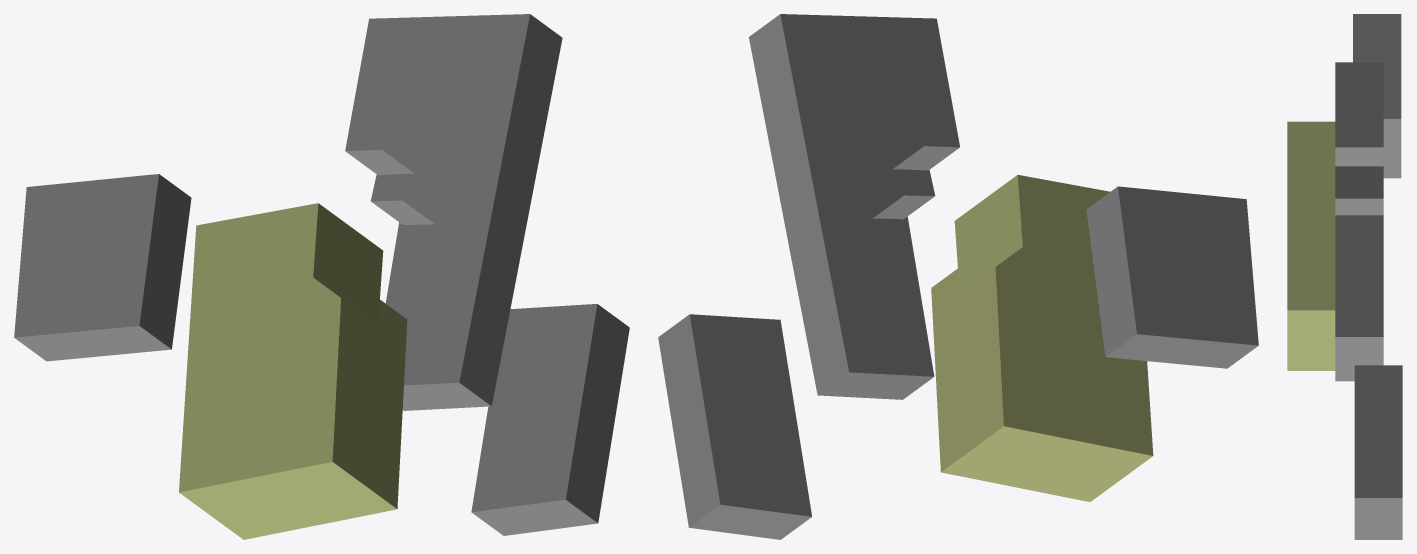
3 renders of one model, left to right at view 1: azimuth 30°, elevation 25°; view 2: azimuth 150°, elevation 25°; view 3: azimuth 270°, elevation 25°, orthographic. The views are drawn at different scales.
Visible parts, largest first — view 1: 0_1_0_0_2_1_0_0_0; view 2: 0_1_0_0_2_1_0_0_0; view 3: 0_1_0_0_2_1_0_0_0.
Boxes of the visible parts, x1,y1,x2,y2 form: 0_1_0_0_2_1_0_0_0: [14, 14, 629, 539]; 0_1_0_0_2_1_0_0_0: [658, 14, 1258, 539]; 0_1_0_0_2_1_0_0_0: [1287, 14, 1402, 539].
Size of the model in its own units: 31.19 by 27.63 by 7.2.
